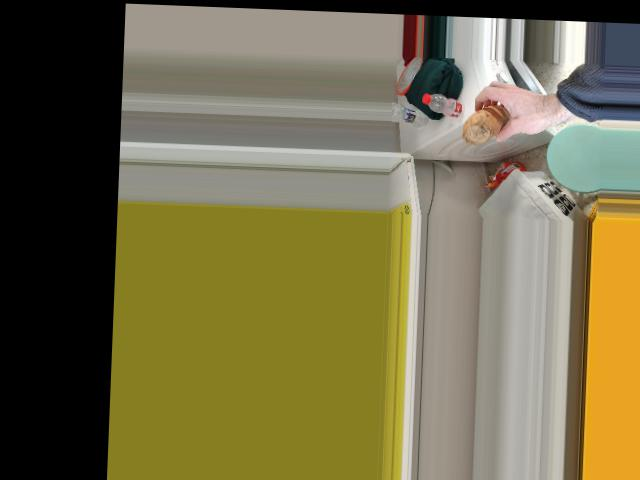sweet_potato: (460, 104, 510, 144)
